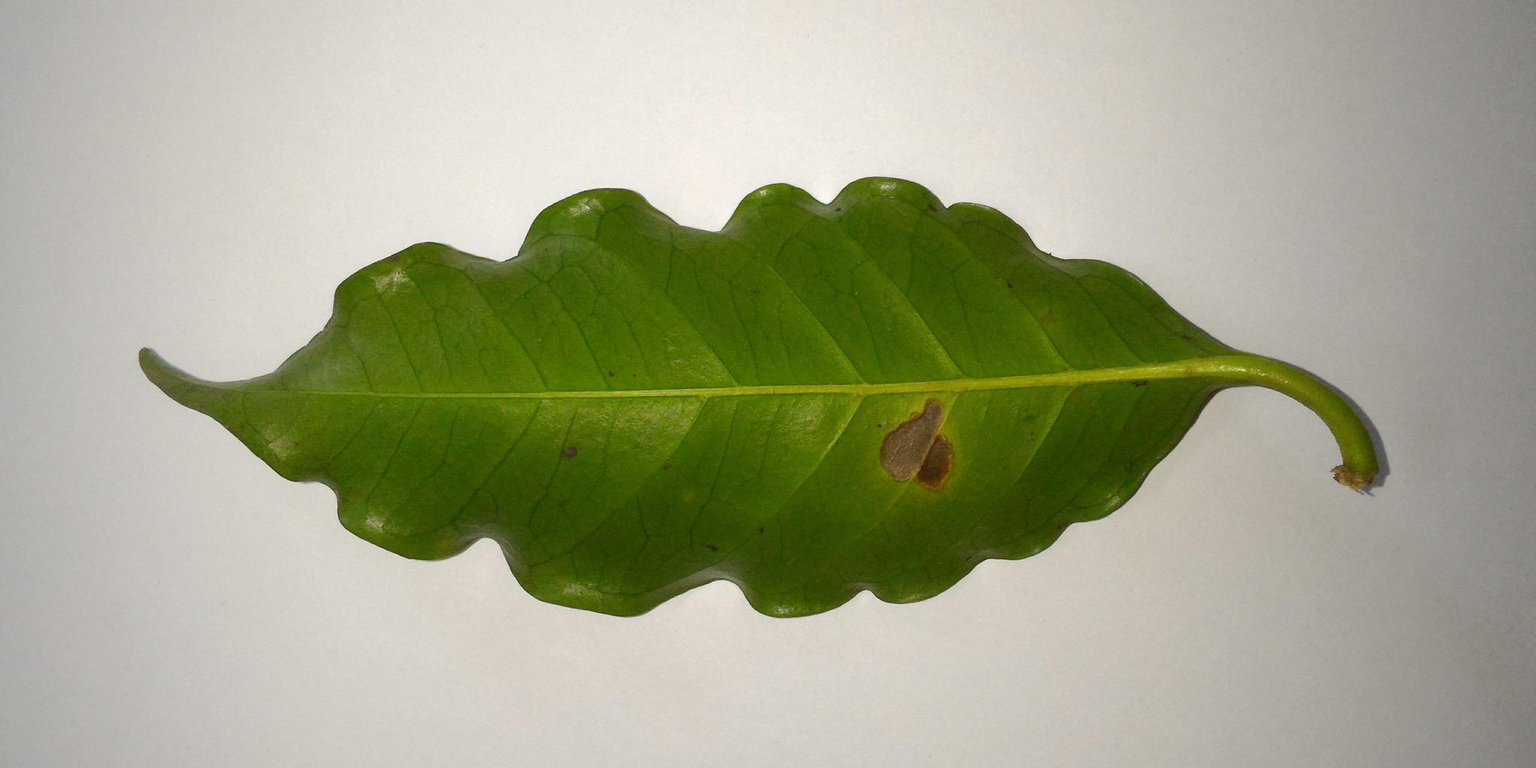Miner: (867, 389, 972, 501)
